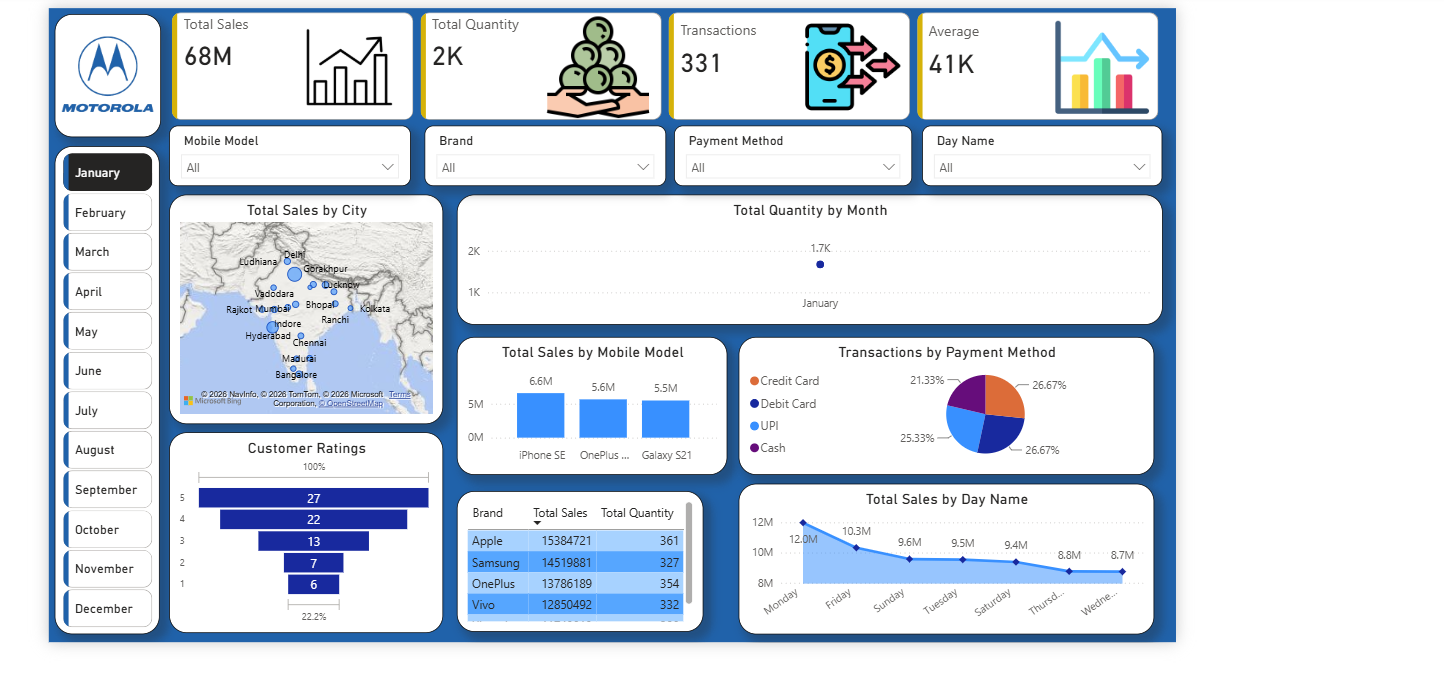

This screenshot's page, from the dashboard's own definition file:
{"tool":"powerbi","page":{"name":"Page 2","canvas":[1280,720],"ordinal":0},"visuals":[{"type":"shape","box":[6,7.2,120.6,139.9],"z":0},{"type":"shape","box":[6.9,156.4,119.4,554.4],"z":1000},{"type":"image","box":[9.6,16.5,113.9,116.6],"z":2000},{"type":"advancedSlicerVisual","fields":{"Values":["Sales_Data.Date.Variation.Date Hierarchy.Month"]},"box":[11,160.5,111.1,548.9],"z":3000},{"type":"cardVisual","fields":{"Data":["Sales_Data.Total Sales","Sales_Data.Total Quantity","Sales_Data.Transactions","Sales_Data.Average"]},"box":[135.1,0,1130.4,132.7],"z":4000},{"type":"map","fields":{"Category":["Sales_Data.City"],"Size":["Sales_Data.Total Sales"]},"box":[135.8,211.3,311.5,260.7],"z":5000},{"type":"lineChart","fields":{"Category":["Sales_Data.Date.Variation.Date Hierarchy.Month","Sales_Data.Date.Variation.Date Hierarchy.Day"],"Y":["Sales_Data.Total Quantity"]},"box":[463.8,211.3,801.4,148.2],"z":6000},{"type":"clusteredColumnChart","fields":{"Category":["Sales_Data.Mobile Model"],"Y":["Sales_Data.Total Sales"]},"box":[463.8,373.2,307.4,156.4],"z":7000},{"type":"pieChart","fields":{"Category":["Sales_Data.Payment Method"],"Y":["Sales_Data.Transactions"]},"box":[783.5,373.2,472,156.4],"z":8000},{"type":"funnel","title":"Customer Ratings","fields":{"Category":["Sales_Data.Customer Ratings"],"Y":["CountNonNull(Sales_Data.Customer Ratings)"]},"box":[135.8,481.6,311.5,227.8],"z":9000},{"type":"areaChart","fields":{"Category":["Sales_Data.Day Name"],"Y":["Sales_Data.Total Sales"]},"box":[783.5,539.3,472,171.5],"z":10000},{"type":"tableEx","fields":{"Values":["Sales_Data.Brand","Sales_Data.Total Sales","Sales_Data.Total Quantity"]},"box":[463.3,548.9,279.9,171.3],"z":11000},{"type":"slicer","fields":{"Values":["Sales_Data.Mobile Model"]},"box":[135.8,133.1,274.4,68.6],"z":12000},{"type":"slicer","fields":{"Values":["Sales_Data.Brand"]},"box":[426.8,133.1,274.4,68.6],"z":13000},{"type":"slicer","fields":{"Values":["Sales_Data.Payment Method"]},"box":[710.8,133.1,270.3,68.6],"z":14000},{"type":"slicer","fields":{"Values":["Sales_Data.Day Name"]},"box":[992.1,133.1,273.1,68.6],"z":15000}]}

Visuals, with their boxes in screenshot pixels (x1, y1, x2, y2):
shape: [47, 6, 155, 132]
shape: [48, 141, 155, 639]
image: [50, 15, 152, 120]
advancedSlicerVisual - Sales_Data.Date.Variation.Date Hierarchy.Month: [51, 144, 151, 638]
cardVisual - Sales_Data.Total Sales x Sales_Data.Total Quantity: [163, 0, 1179, 119]
map - Sales_Data.City x Sales_Data.Total Sales: [163, 190, 444, 424]
lineChart - Sales_Data.Date.Variation.Date Hierarchy.Month x Sales_Data.Date.Variation.Date Hierarchy.Day: [458, 190, 1179, 323]
clusteredColumnChart - Sales_Data.Mobile Model x Sales_Data.Total Sales: [458, 336, 735, 476]
pieChart - Sales_Data.Payment Method x Sales_Data.Transactions: [746, 336, 1170, 476]
"Customer Ratings" funnel: [163, 433, 444, 638]
areaChart - Sales_Data.Day Name x Sales_Data.Total Sales: [746, 485, 1170, 639]
tableEx - Sales_Data.Brand x Sales_Data.Total Sales: [458, 494, 710, 648]
slicer - Sales_Data.Mobile Model: [163, 120, 410, 181]
slicer - Sales_Data.Brand: [425, 120, 672, 181]
slicer - Sales_Data.Payment Method: [681, 120, 924, 181]
slicer - Sales_Data.Day Name: [933, 120, 1179, 181]
